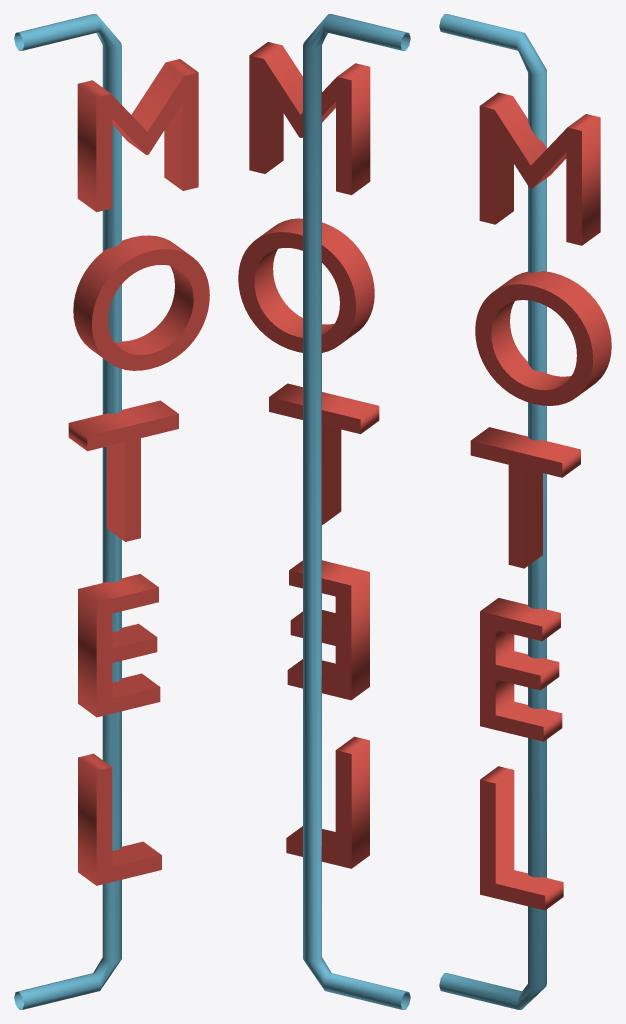
Rendered from MotelSign.fbx.
3 renders of one model, left to right at view 1: azimuth 30°, elevation 25°; view 2: azimuth 150°, elevation 25°; view 3: azimuth 330°, elevation 25°, orthographic.
Parts seen in each view (by area): view 1: Text, MotelSchild; view 2: Text, MotelSchild; view 3: Text, MotelSchild.
Boxes of the visible parts, x1,y1,x2,y2 form: Text: [68, 59, 209, 885]; MotelSchild: [14, 14, 121, 1009]; Text: [238, 42, 379, 868]; MotelSchild: [303, 14, 410, 1009]; Text: [470, 92, 611, 910]; MotelSchild: [439, 14, 546, 1009].
Size of the model in its own units: 106 by 580 by 27.85.
